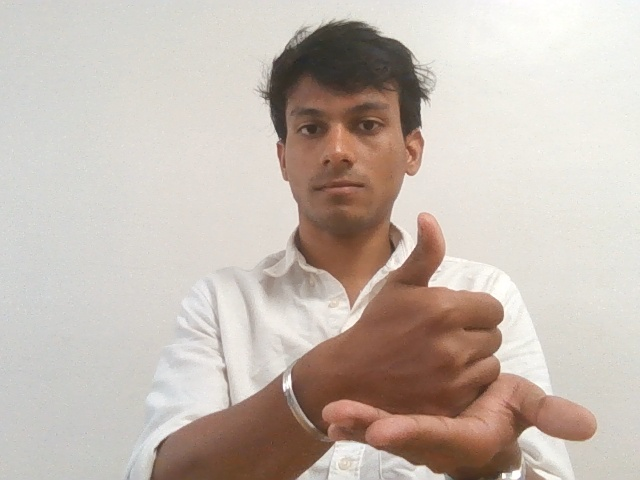Help: (312, 212, 603, 467)
